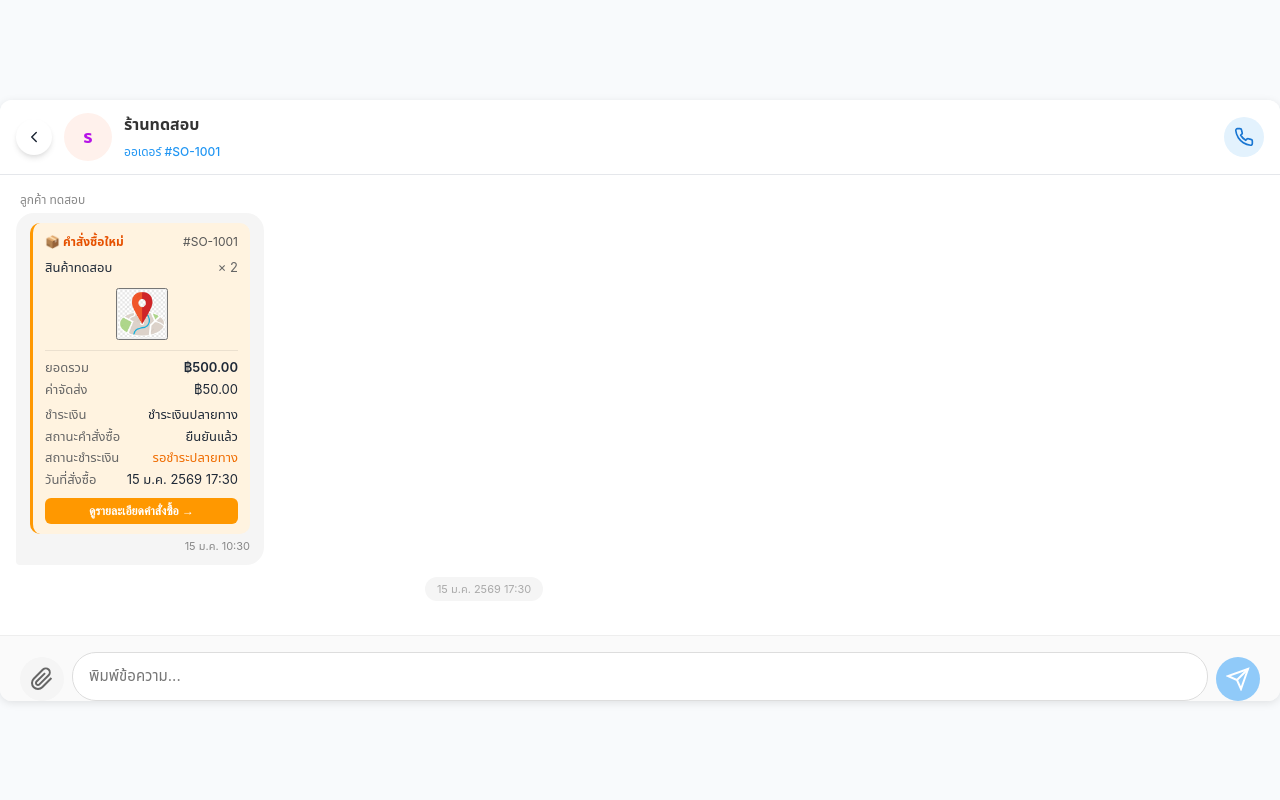
Scenario: ChatRoom - Order Detail Popup › shows error state when API fails
The width and height of the screenshot is (1280, 800).
Click the button "ดูรายละเอียดคำสั่งซื้อ →". click: (142, 511)
box: [45,498,238,524]
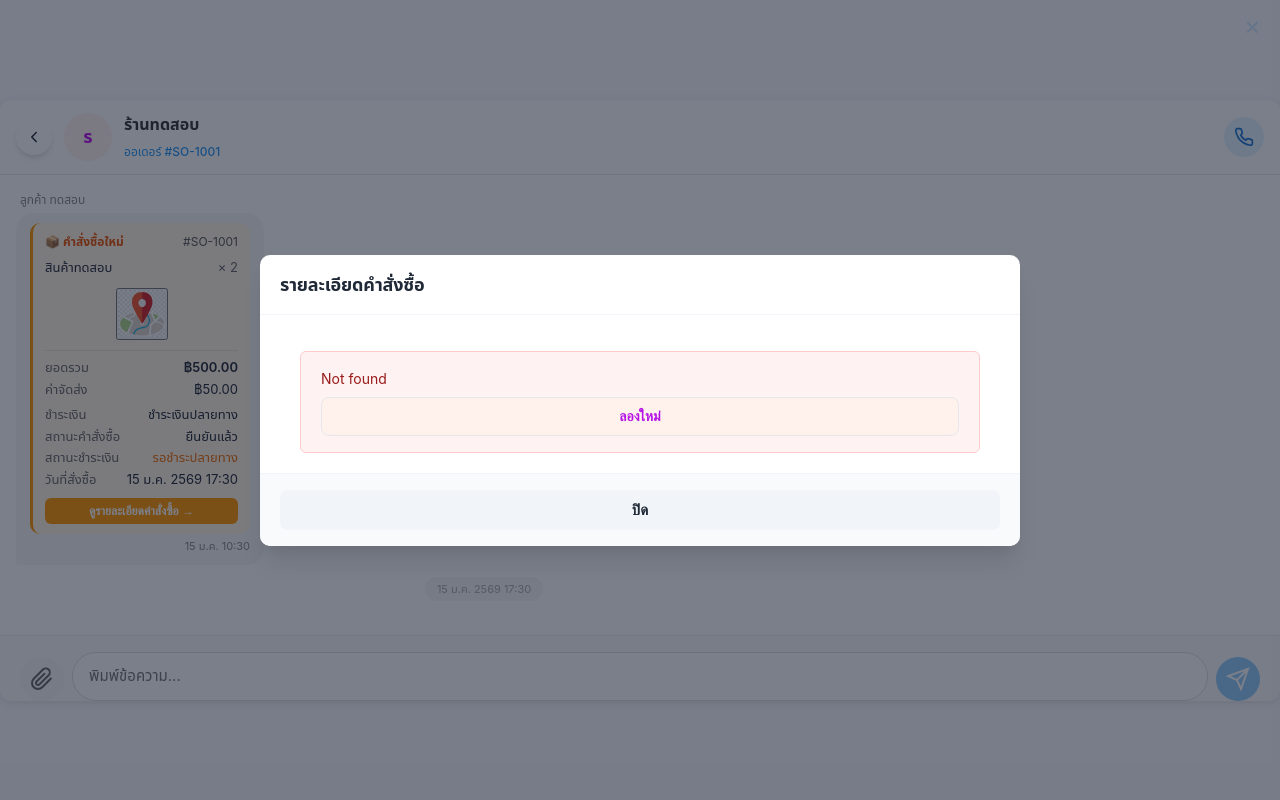
Expected: the text "Not found" is shown, [321,370,387,386]
